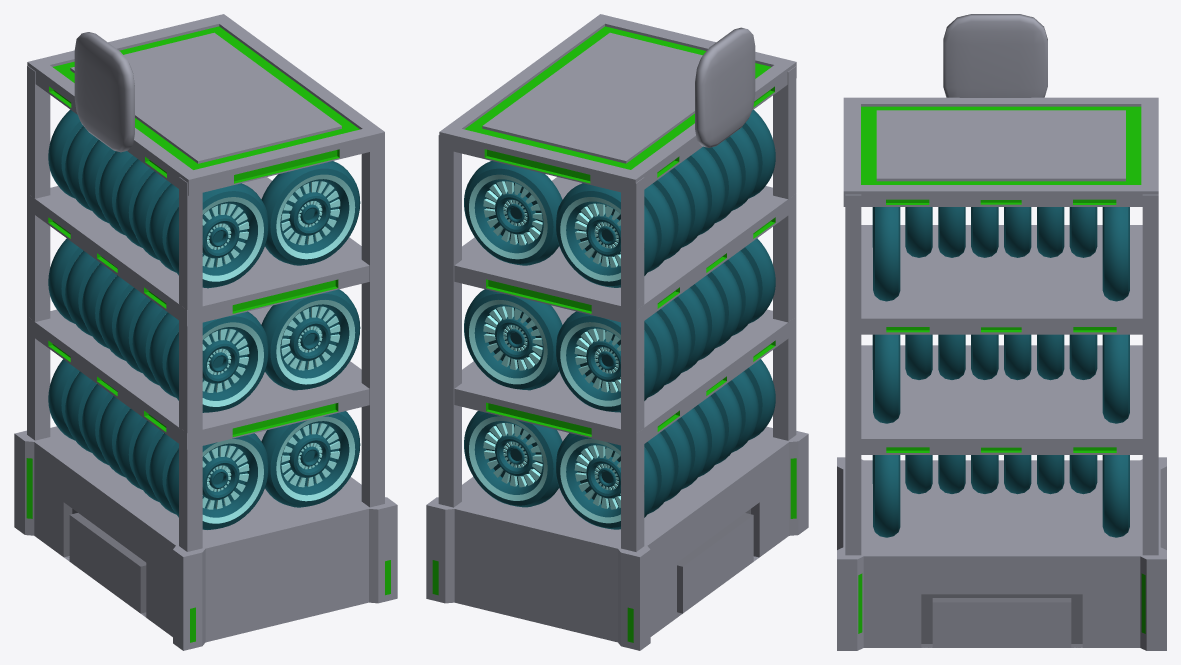
File: TireCounter.fbx
The picture shows the model from 3 angles, left to right: view 1: azimuth 30°, elevation 25°; view 2: azimuth 150°, elevation 25°; view 3: azimuth 270°, elevation 25°; orthographic projection. The views are drawn at different scales.
Parts seen in each view (by area): view 1: Cube, Cube.003, Plane.004, Plane.003, Plane, Cube.002, Cube.001, Plane.010, Plane.009, Plane.008, Cube.004; view 2: Cube, Cube.003, Plane.004, Plane.003, Plane, Cube.002, Cube.001, Plane.005, Plane.006, Plane.007, Cube.004; view 3: Cube, Cube.003, Cube.002, Cube.001, Cube.004, Plane.004, Plane.003, Plane, Plane.005, Plane.010, Plane.009, Plane.006 (+2 smaller).
Part boxes in pixels (left/top/right/bottom): Cube: left=14, top=65, right=397, bottom=650; Cube.003: left=27, top=14, right=384, bottom=195; Plane.004: left=48, top=109, right=268, bottom=288; Plane.003: left=48, top=238, right=268, bottom=412; Plane: left=48, top=359, right=268, bottom=529; Cube.002: left=27, top=177, right=369, bottom=325; Cube.001: left=27, top=305, right=369, bottom=449; Plane.010: left=261, top=161, right=360, bottom=265; Plane.009: left=261, top=289, right=360, bottom=390; Plane.008: left=261, top=411, right=360, bottom=507; Cube.004: left=74, top=32, right=134, bottom=152; Cube: left=426, top=66, right=808, bottom=650; Cube.003: left=439, top=14, right=796, bottom=195; Plane.004: left=556, top=109, right=775, bottom=287; Plane.003: left=556, top=238, right=775, bottom=412; Plane: left=556, top=359, right=775, bottom=529; Cube.002: left=454, top=177, right=796, bottom=325; Cube.001: left=454, top=305, right=796, bottom=448; Plane.005: left=464, top=161, right=562, bottom=265; Plane.006: left=464, top=289, right=562, bottom=390; Plane.007: left=464, top=411, right=562, bottom=507; Cube.004: left=695, top=27, right=755, bottom=147; Cube: left=837, top=194, right=1166, bottom=650; Cube.003: left=843, top=97, right=1158, bottom=206; Cube.002: left=861, top=225, right=1142, bottom=334; Cube.001: left=861, top=345, right=1142, bottom=454; Cube.004: left=943, top=14, right=1047, bottom=97; Plane.004: left=872, top=207, right=1097, bottom=257; Plane.003: left=872, top=334, right=1097, bottom=380; Plane: left=872, top=455, right=1097, bottom=494; Plane.005: left=1102, top=207, right=1129, bottom=301; Plane.010: left=873, top=207, right=900, bottom=301; Plane.009: left=873, top=334, right=900, bottom=423; Plane.006: left=1102, top=334, right=1129, bottom=423.
Bounding box in the file's own units: 52.56 × 70.21 × 126.
